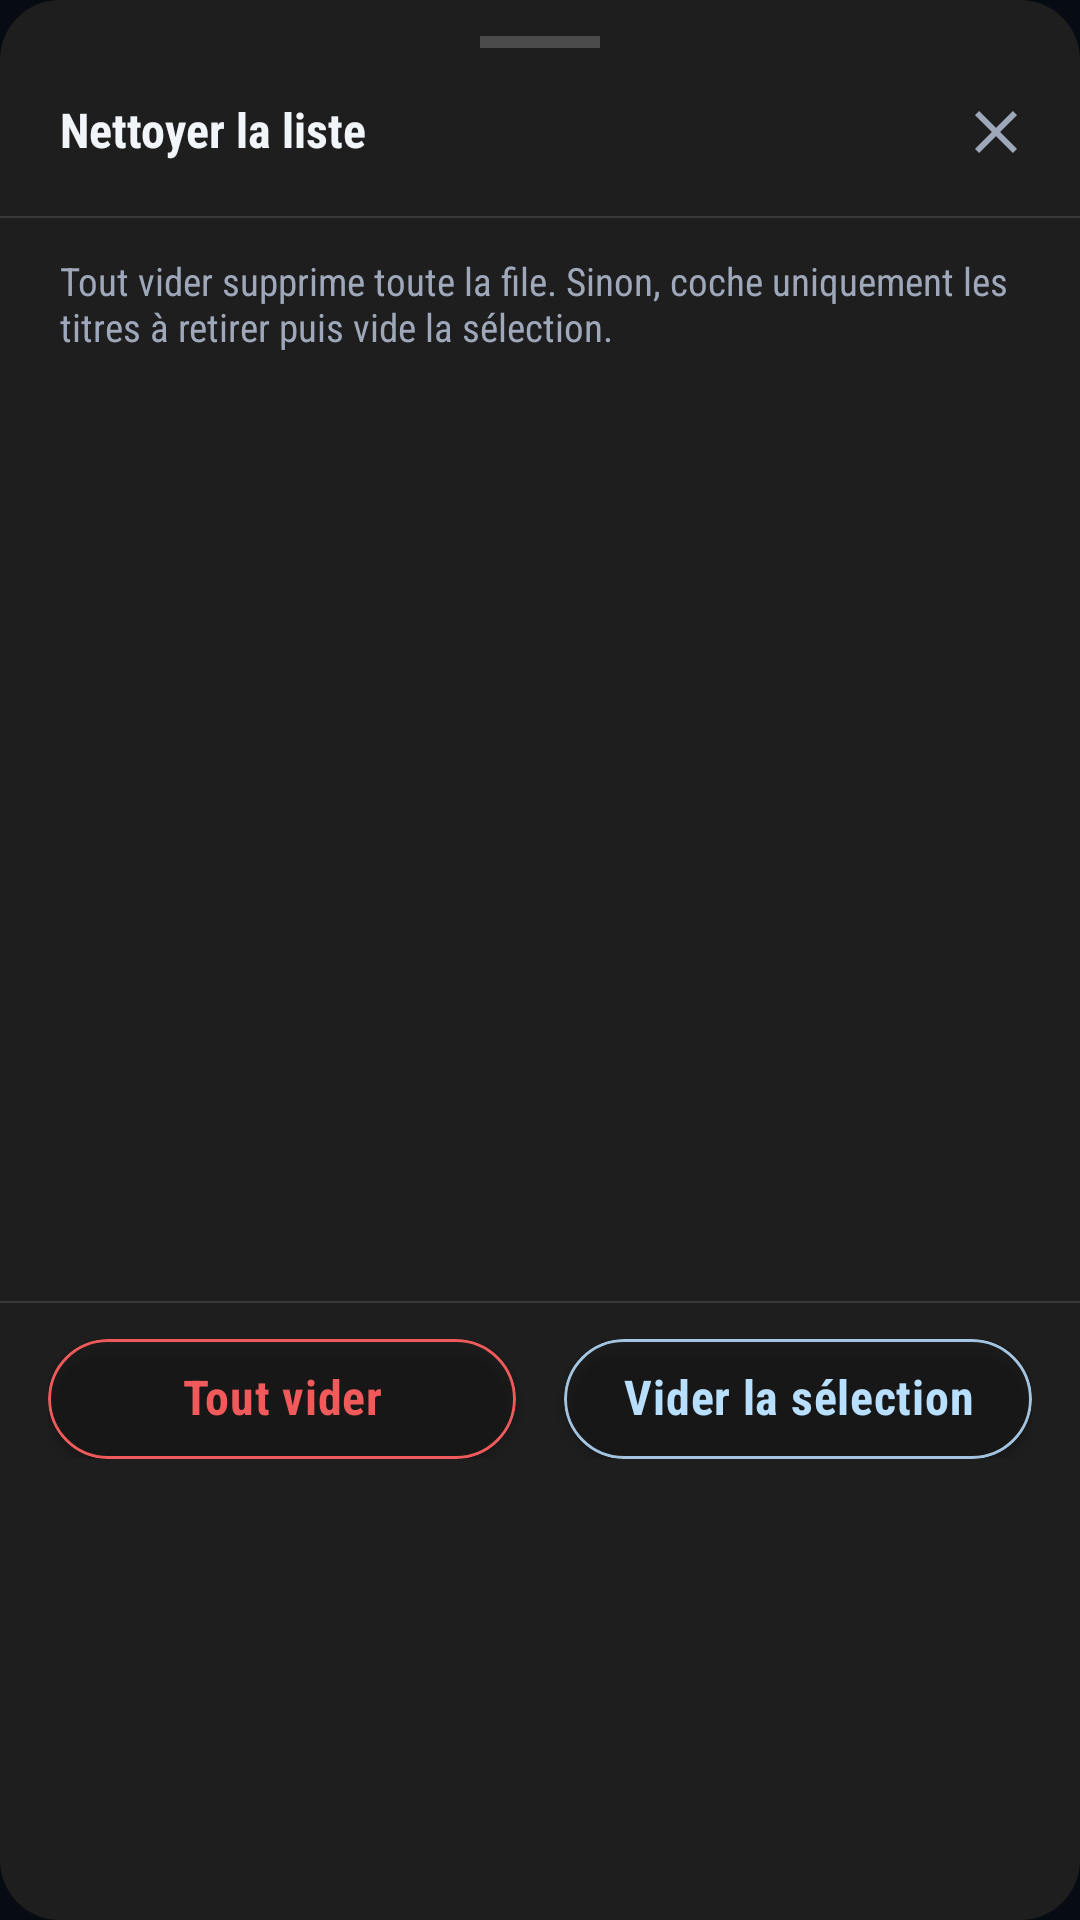

Icon click points for this 1080w x 1920h phone screenshot, format (x=x, y=y):
Fermer: (x=996, y=132)
